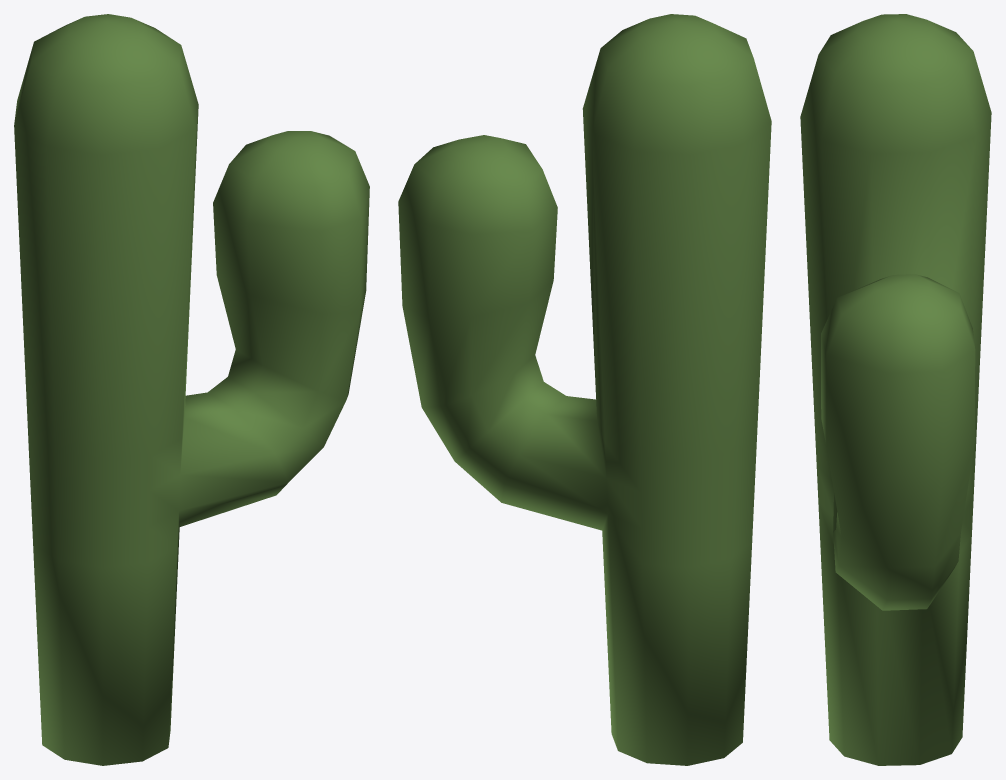
The model's file is cactus_2.fbx.
3 renders of one model, left to right at view 1: azimuth 30°, elevation 25°; view 2: azimuth 150°, elevation 25°; view 3: azimuth 270°, elevation 25°, orthographic.
Parts seen in each view (by area): view 1: Cylinder.002; view 2: Cylinder.002; view 3: Cylinder.002.
Part boxes in pixels (box(x1,y1,x2,y2)): Cylinder.002: box(14, 14, 369, 765); Cylinder.002: box(398, 14, 771, 765); Cylinder.002: box(800, 14, 991, 765).
Bounding box in the file's own units: 77.82 × 157 × 37.91.
